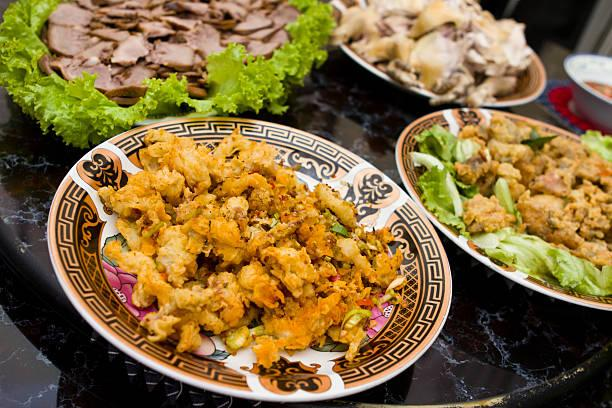Braised Crucian Carp: (45, 114, 445, 398), (393, 107, 610, 310), (329, 0, 544, 106)
